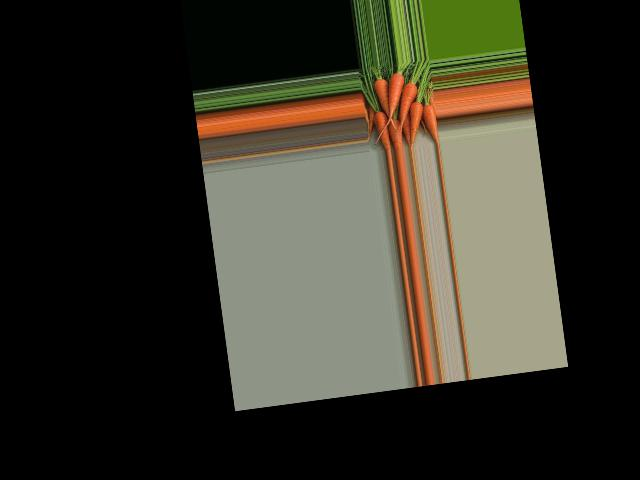carrot: (425, 102, 438, 144)
